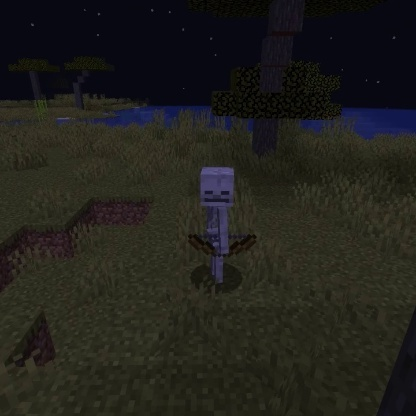skeleton: (184, 162, 260, 287)
